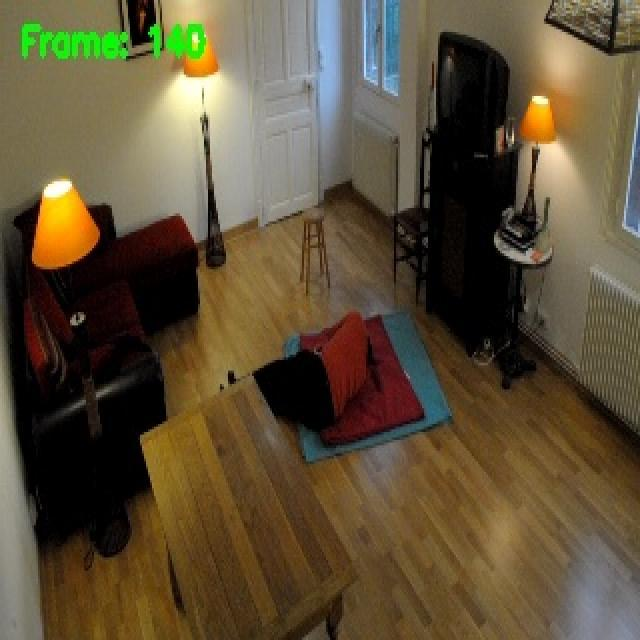fall: (216, 308, 368, 432)
